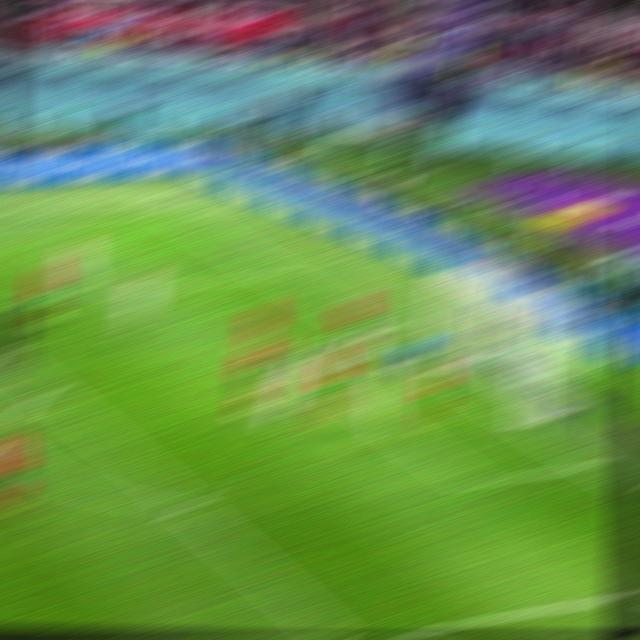bigarea_bottom_inner: (321, 626, 368, 635)
bigarea_top_outter: (257, 264, 293, 282)
bottom_arc_area_intersection: (167, 492, 206, 520)
corner: (147, 205, 186, 217)
smallarea_bottom_inner: (451, 465, 495, 497)
smallarea_bottom_outter: (574, 450, 613, 477)
smallarea_top_inner: (254, 336, 291, 358)
smallarea_top_outter: (358, 323, 394, 341)
top_arc_area_intersection: (29, 379, 65, 397)
